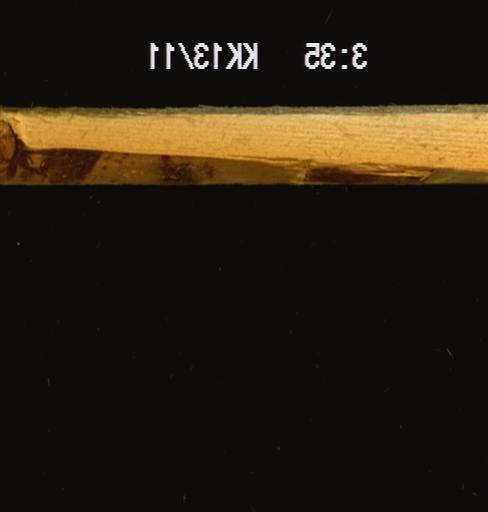wave: (0, 106, 486, 183)
